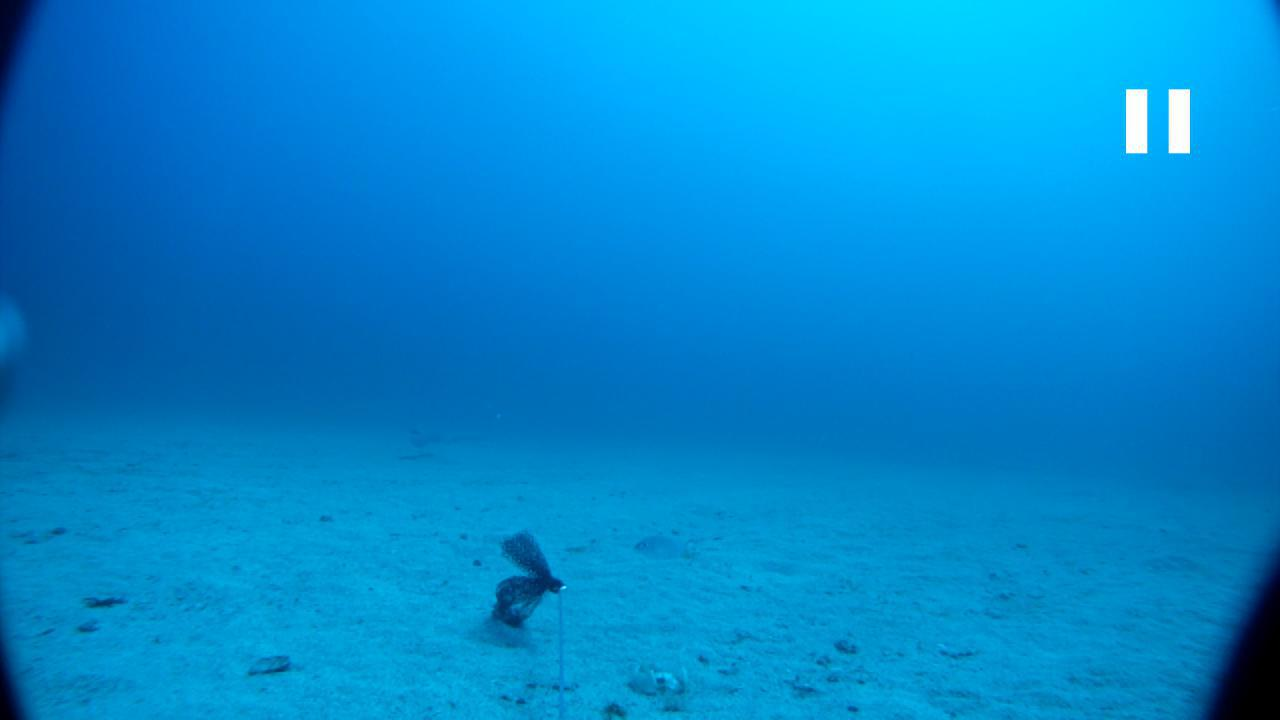dasyatis: (404, 425, 498, 450)
pagellus: (630, 532, 696, 560)
